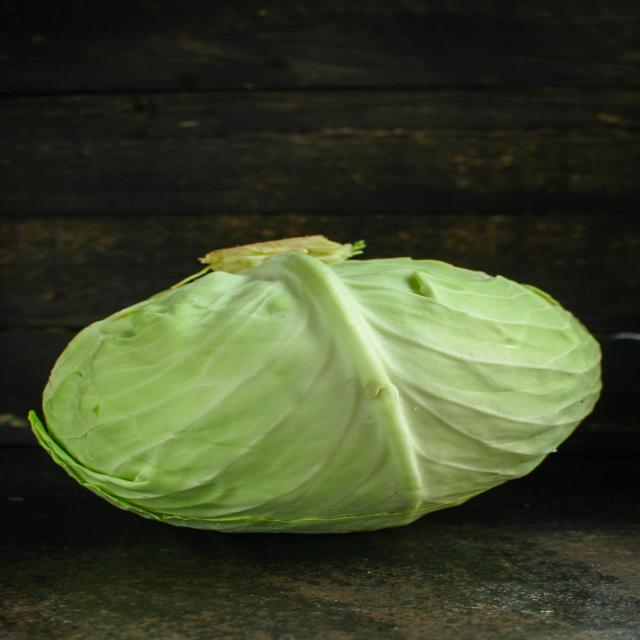cabbage: (24, 232, 610, 540)
